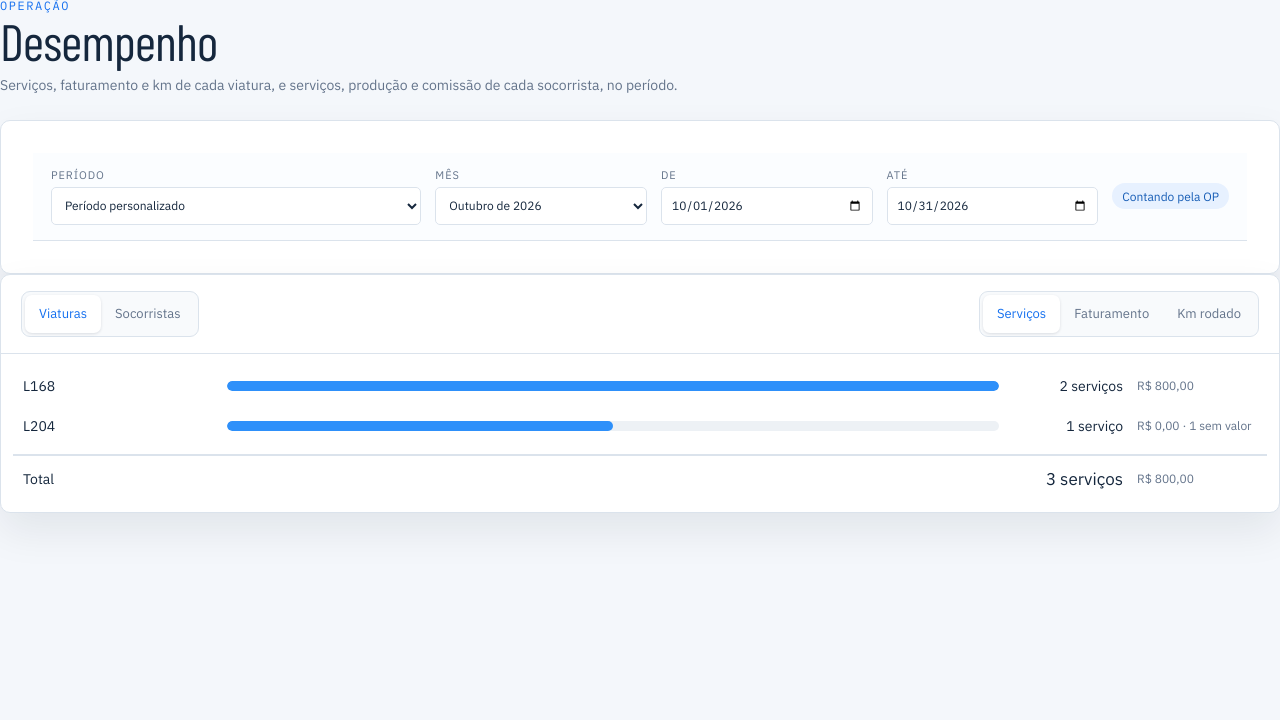
Test: serviços por viatura, e o clique abre os serviços dela
This screenshot has width=1280, height=720.
Click the button "L168 2 serviços R$ 800,00" at (640, 386), box [13,368,1267,404]
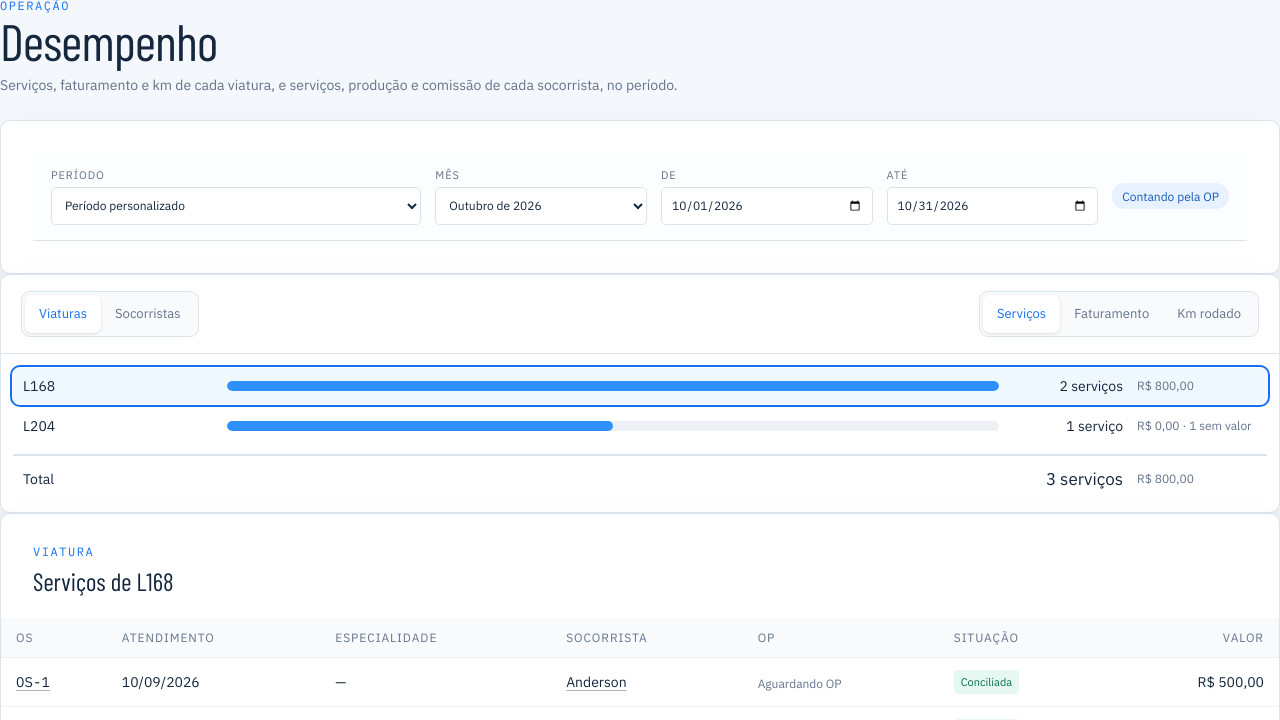
expect the heading "Serviços de L168" is shown: met, box [33,566,174,596]
Click the button "Km rodado" at (1209, 314), box [1163,295,1255,333]
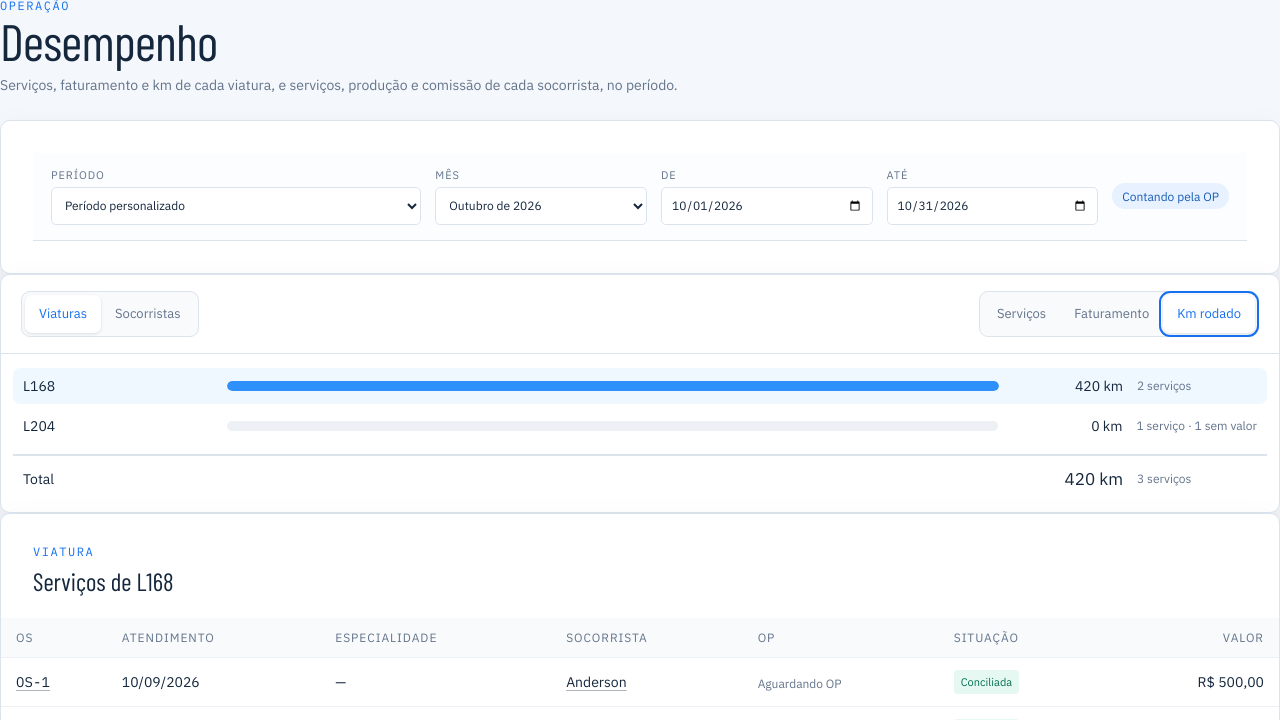
expect the button "L168 420 km 2 serviços" is shown: met, box [13,368,1267,404]
